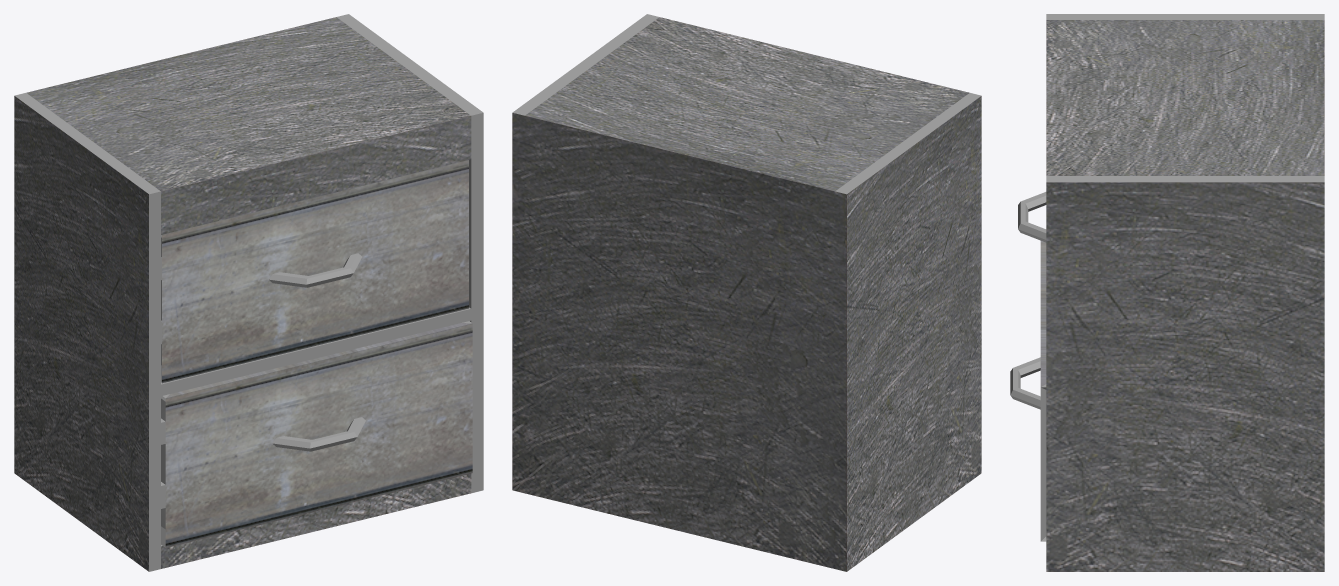
Rendered from Cabinets.fbx.
3 renders of one model, left to right at view 1: azimuth 30°, elevation 25°; view 2: azimuth 150°, elevation 25°; view 3: azimuth 270°, elevation 25°, orthographic. The views are drawn at different scales.
Parts seen in each view (by area): view 1: polySurface4, polySurface13, polySurface12; view 2: polySurface4; view 3: polySurface4, polySurface13, polySurface12.
Part boxes in pixels (left/top/right/bottom): polySurface4: left=14, top=14, right=483, bottom=571; polySurface13: left=161, top=321, right=472, bottom=547; polySurface12: left=161, top=160, right=468, bottom=383; polySurface4: left=512, top=14, right=981, bottom=571; polySurface4: left=1046, top=14, right=1324, bottom=571; polySurface13: left=1010, top=241, right=1046, bottom=541; polySurface12: left=1018, top=192, right=1046, bottom=242.
Bounding box in the file's own units: 79.96 × 86.25 × 63.02.
